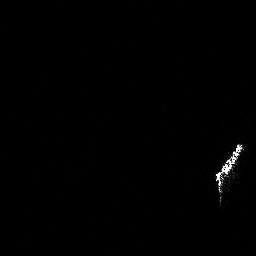ship: (211, 139, 247, 207)
